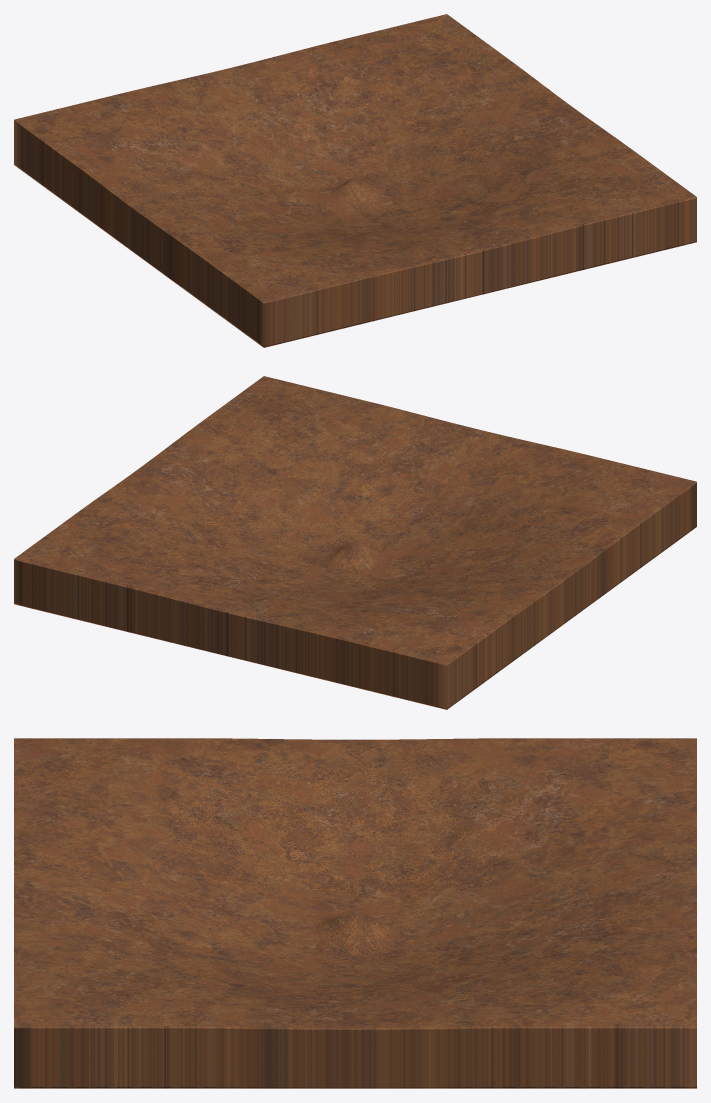
Rendered from bottom_inner_impact_crater.fbx.
3 renders of one model, top to bottom at view 1: azimuth 30°, elevation 25°; view 2: azimuth 150°, elevation 25°; view 3: azimuth 270°, elevation 25°, orthographic. The views are drawn at different scales.
Parts seen in each view (by area): view 1: Plane; view 2: Plane; view 3: Plane.
Boxes of the visible parts, x1=… form: Plane: x1=14, y1=14, x2=696, y2=347; Plane: x1=14, y1=376, x2=696, y2=709; Plane: x1=14, y1=738, x2=696, y2=1088.
Size of the model in its own units: 50000 by 5000 by 50000.
Materials: 1 (1 with a texture image).
